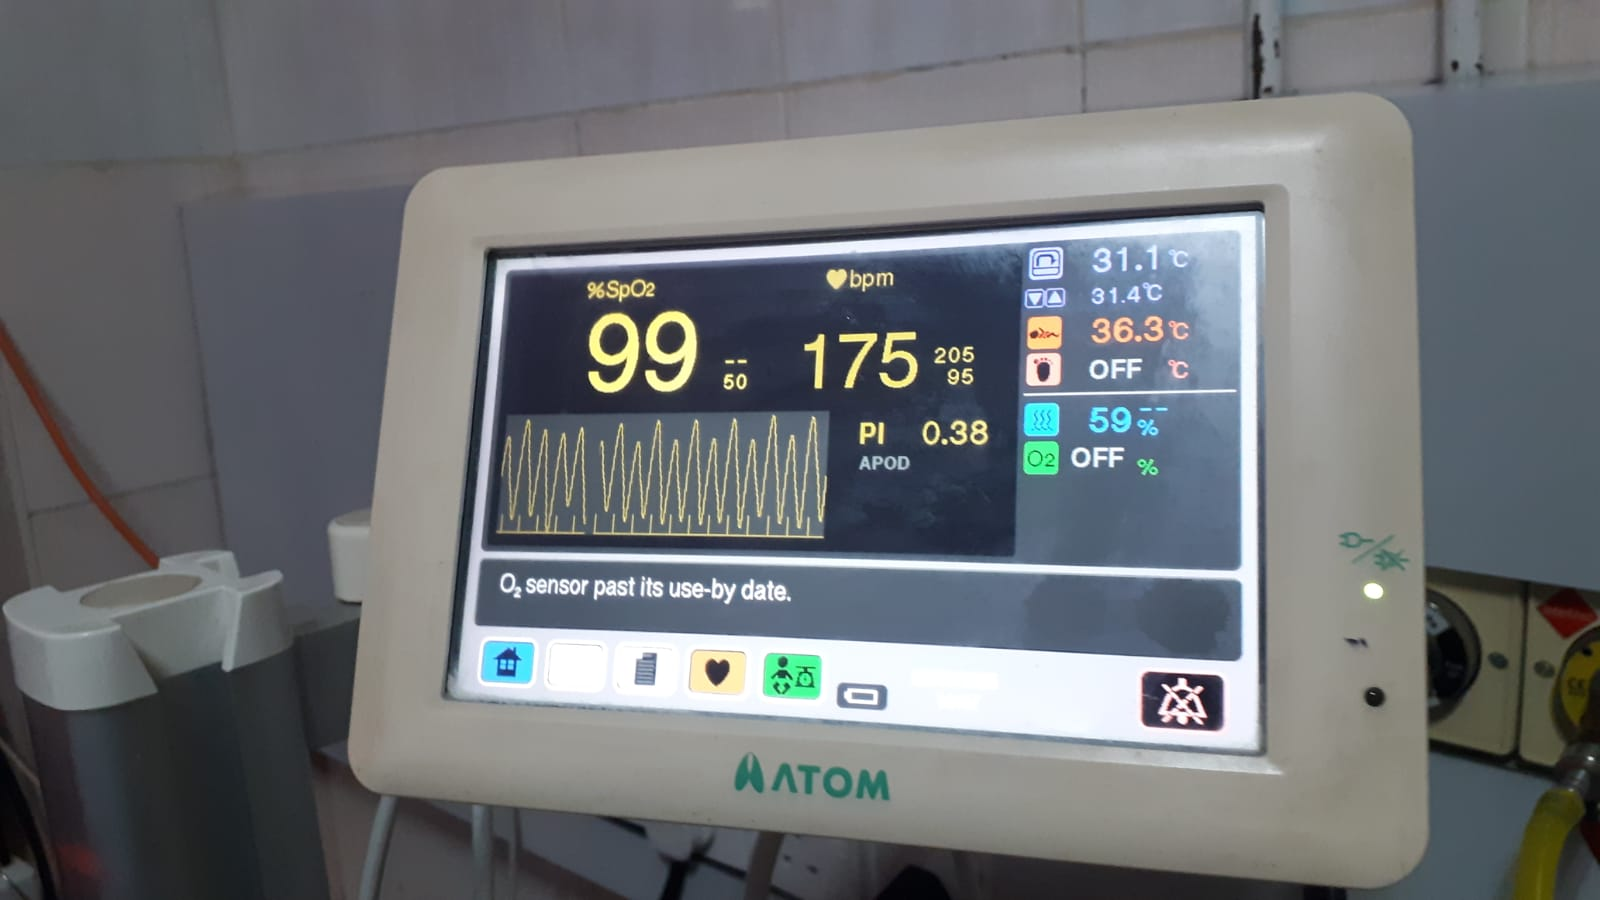heart_rate_value: (787, 312, 931, 407)
humidity_value: (1077, 399, 1138, 440)
skin_temp_value: (1076, 302, 1167, 351)
spo2_value: (580, 301, 703, 396)
